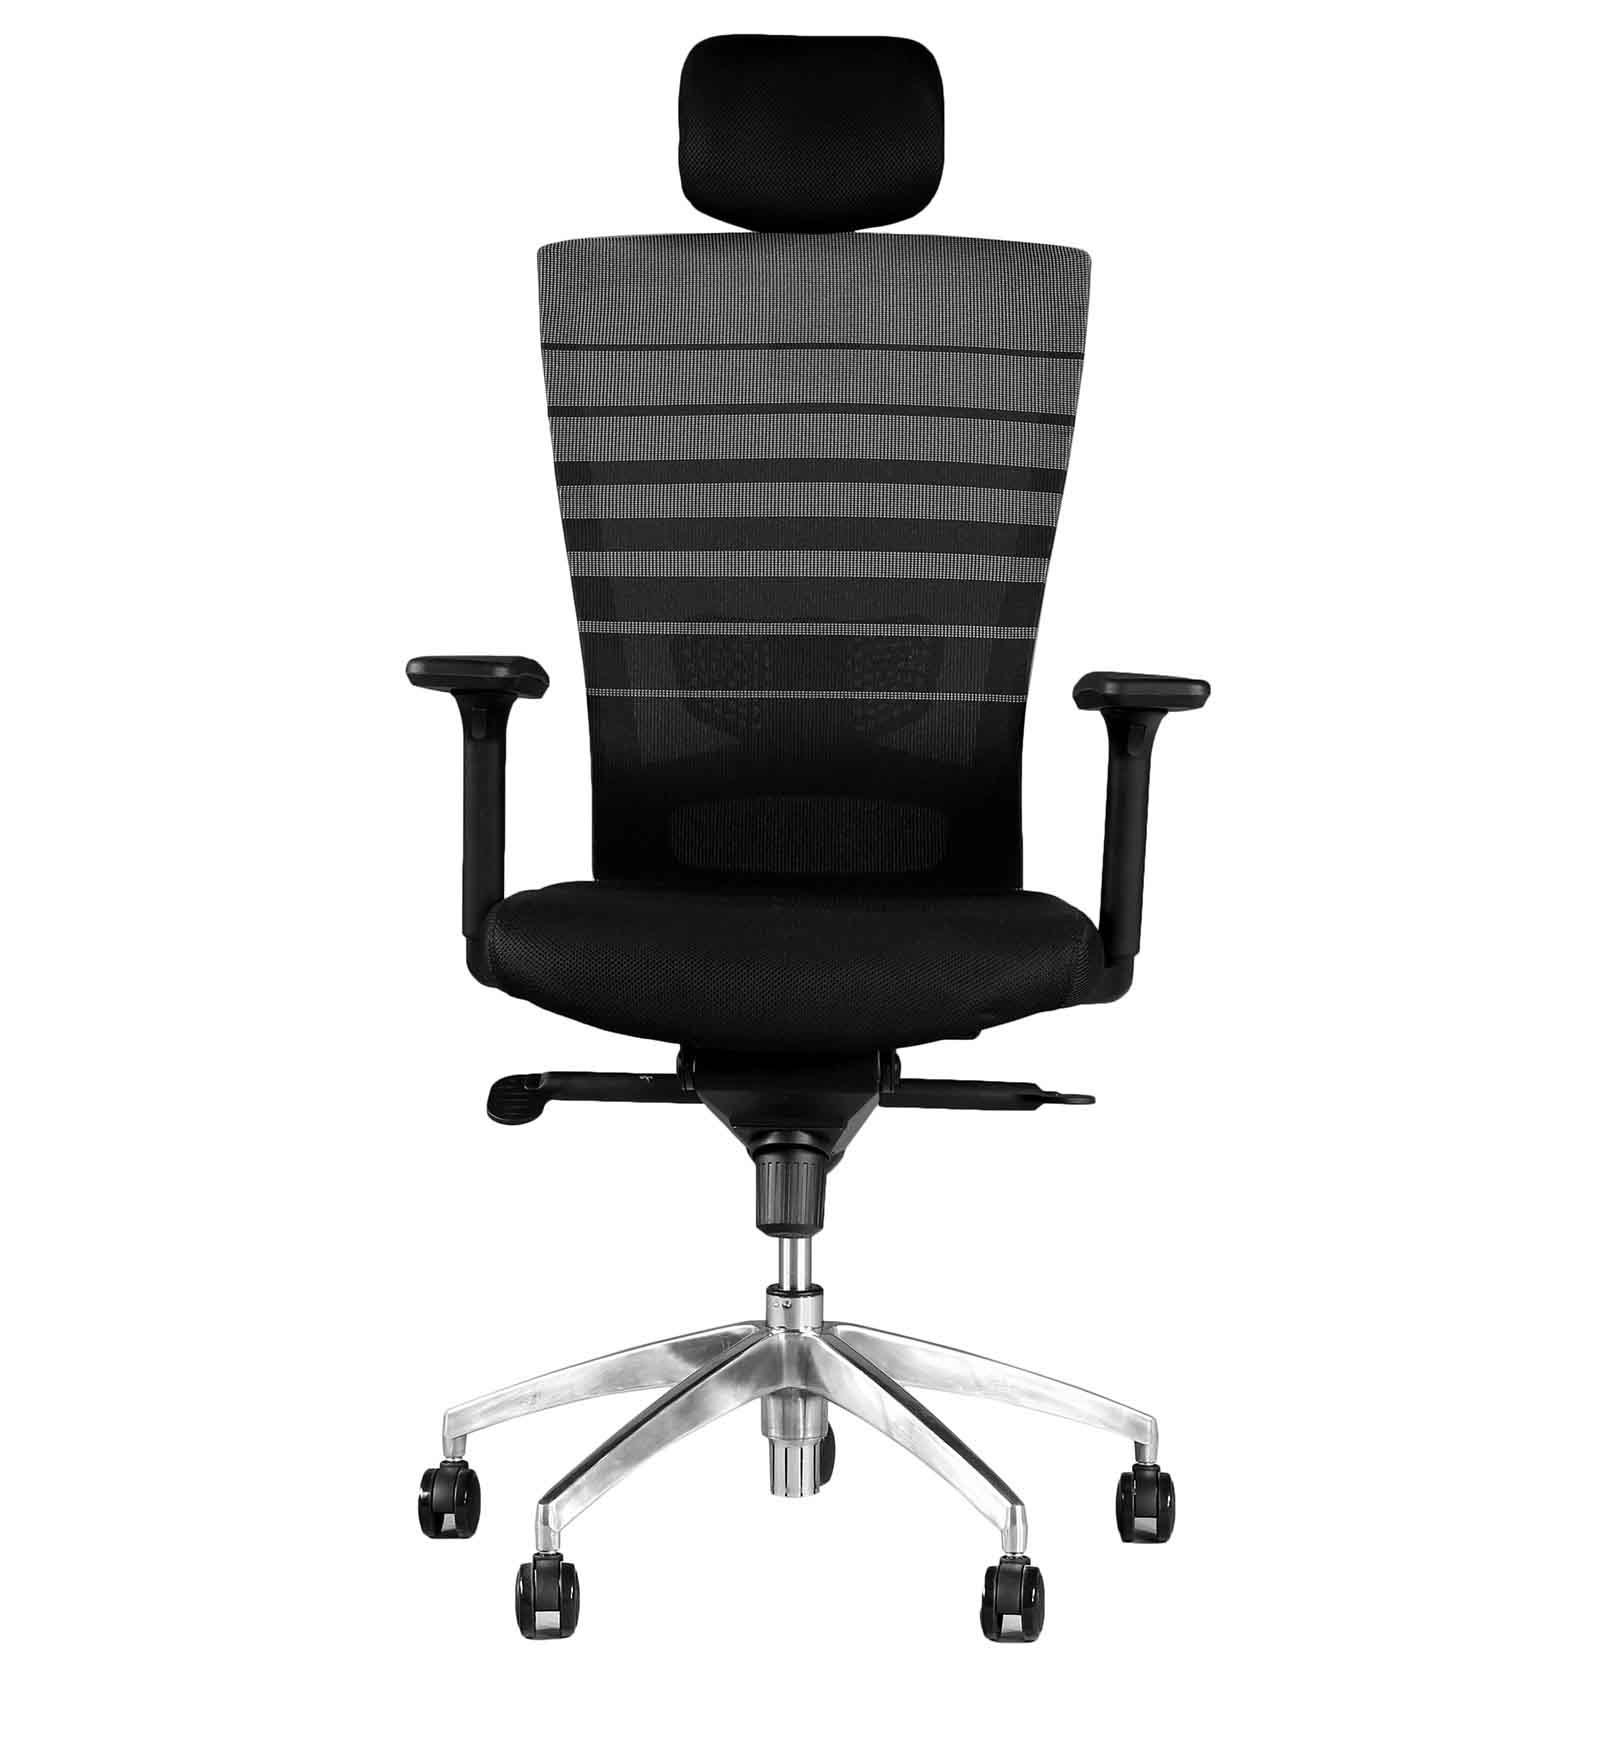Ergo High Back Ergonomic Chair in Black Colour by HomeTown: (363, 17, 1252, 1660)
